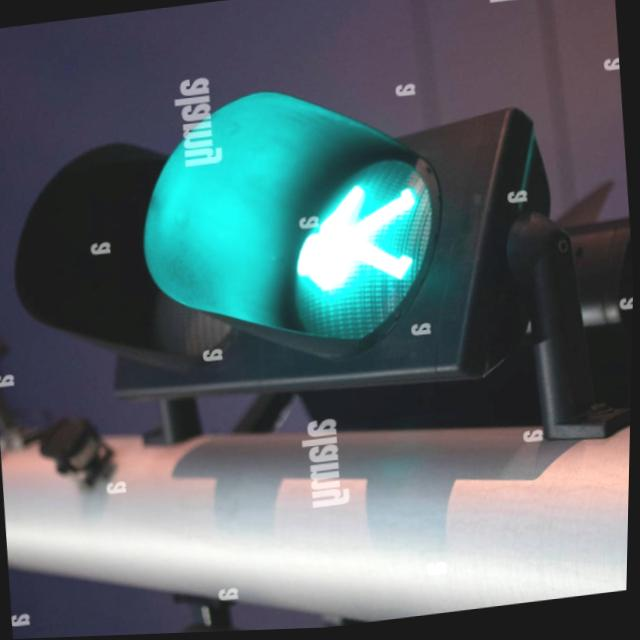green_light: (292, 191, 424, 297)
